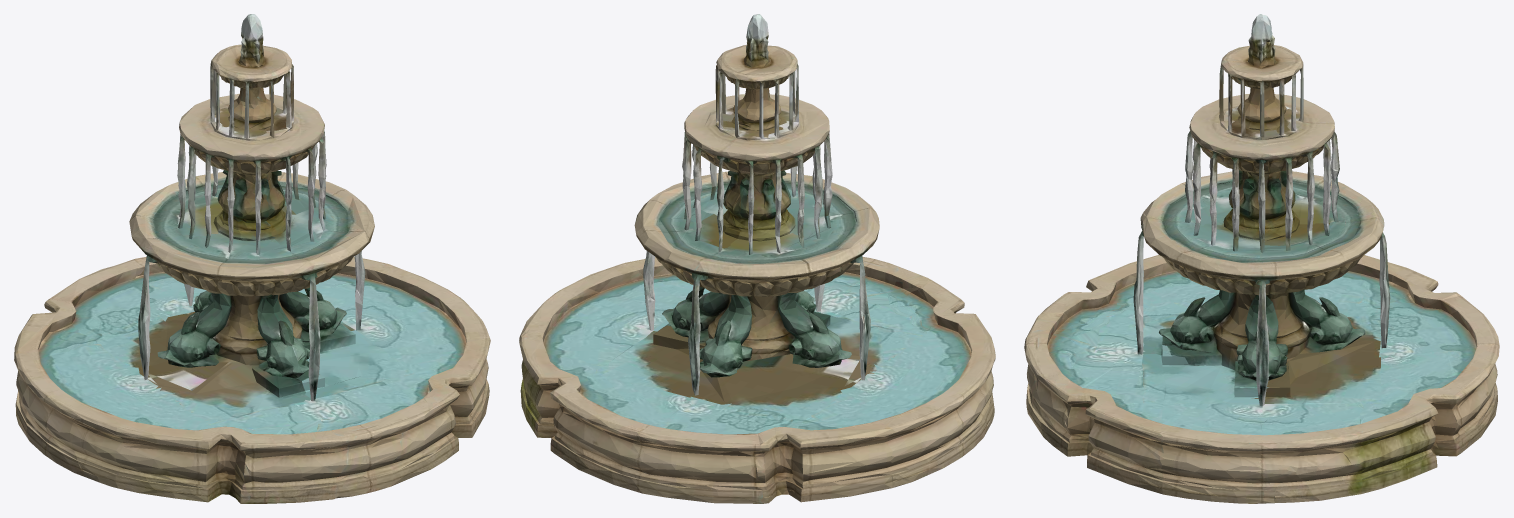
Rendered from fountain.glb.
3 renders of one model, left to right at view 1: azimuth 30°, elevation 25°; view 2: azimuth 150°, elevation 25°; view 3: azimuth 270°, elevation 25°, orthographic.
Parts seen in each view (by area): view 1: tmpousmy_tq.obj; view 2: tmpousmy_tq.obj; view 3: tmpousmy_tq.obj.
Boxes of the visible parts, bbox=[...] form: tmpousmy_tq.obj: bbox=[14, 14, 490, 503]; tmpousmy_tq.obj: bbox=[519, 14, 995, 503]; tmpousmy_tq.obj: bbox=[1024, 14, 1499, 503].
Bounding box in the file's own units: 1.4 × 1.26 × 1.4.
Materials: 1 (1 with a texture image).
